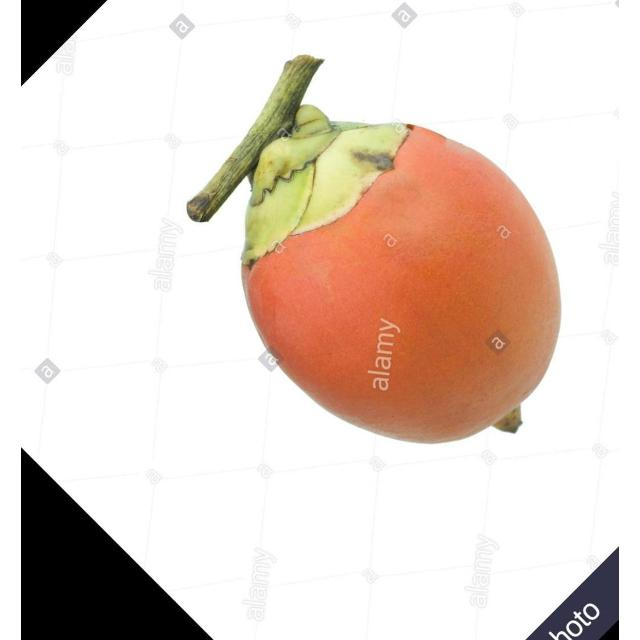good: (240, 106, 562, 447)
